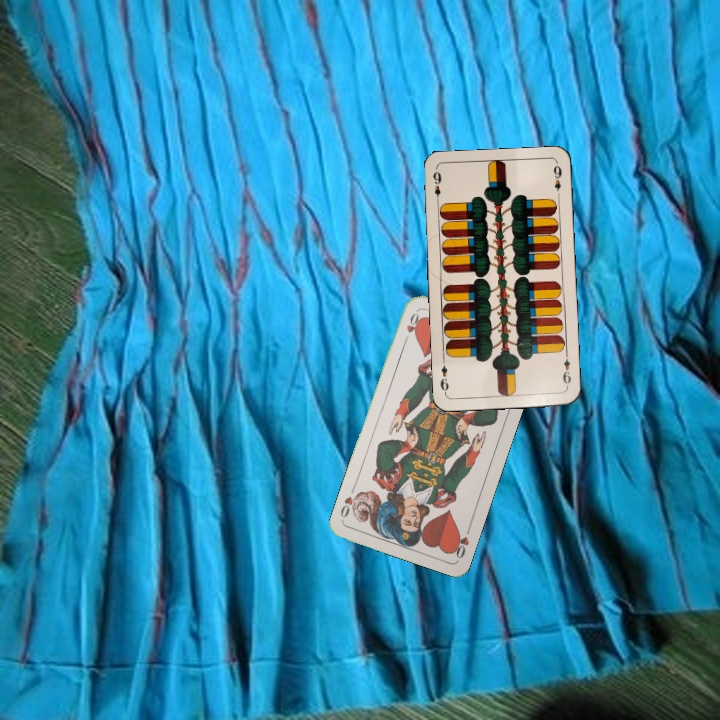E9: (429, 167, 444, 207), (559, 349, 573, 390)
HO: (449, 522, 473, 561), (400, 305, 422, 344)
